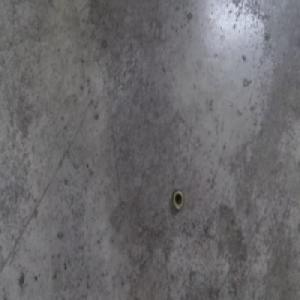Nut: (172, 189, 184, 212)
